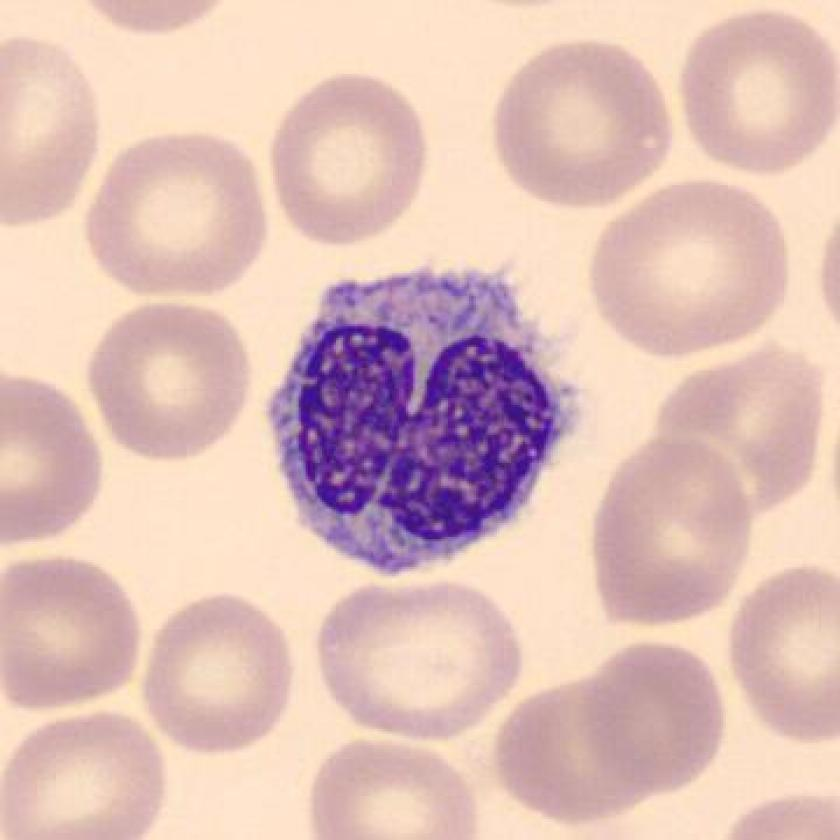monocyte: (246, 249, 598, 591)
